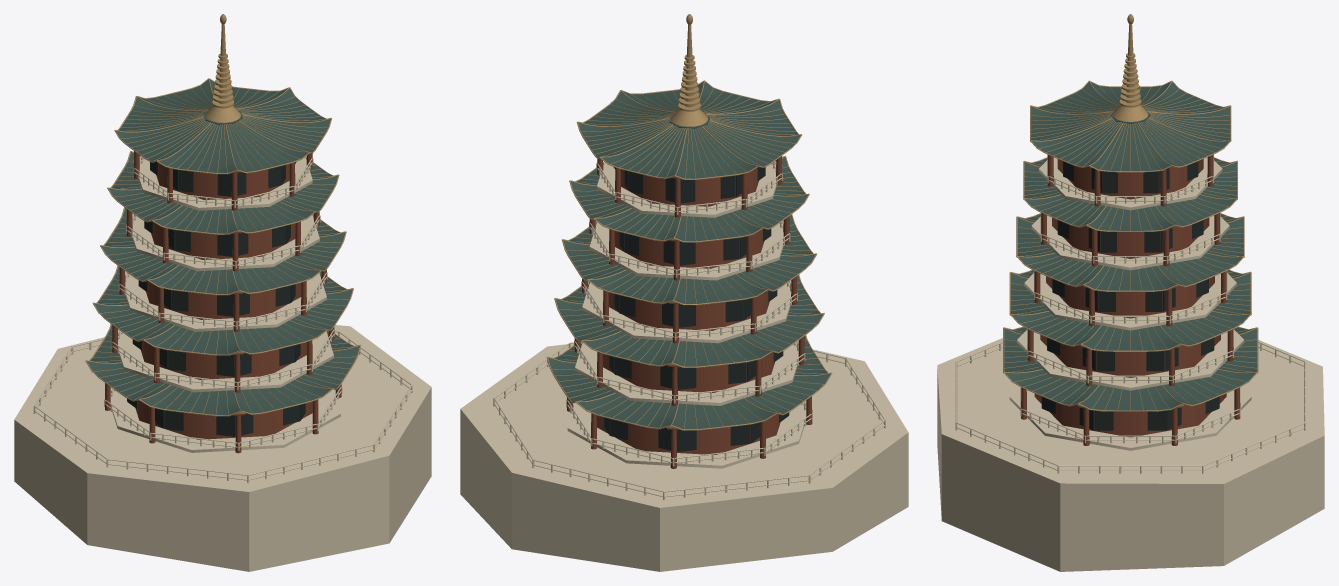
The model's file is leifeng.glb.
3 renders of one model, left to right at view 1: azimuth 30°, elevation 25°; view 2: azimuth 150°, elevation 25°; view 3: azimuth 270°, elevation 25°, orthographic. The views are drawn at different scales.
Parts seen in each view (by area): view 1: Leifeng Pagoda — source footprint, approximate 71.7m total h, Mapped octagonal preservation podium; view 2: Leifeng Pagoda — source footprint, approximate 71.7m total h, Mapped octagonal preservation podium; view 3: Leifeng Pagoda — source footprint, approximate 71.7m total h, Mapped octagonal preservation podium.
Boxes of the visible parts, x1,y1,x2,y2 form: Leifeng Pagoda — source footprint, approximate 71.7m total h: (14,14,431,571); Mapped octagonal preservation podium: (14,325,431,491); Leifeng Pagoda — source footprint, approximate 71.7m total h: (460,14,908,571); Mapped octagonal preservation podium: (460,343,908,507); Leifeng Pagoda — source footprint, approximate 71.7m total h: (937,14,1324,571); Mapped octagonal preservation podium: (937,338,1324,483).
Bounding box in the file's own units: 1.16 × 1.52 × 1.13.
